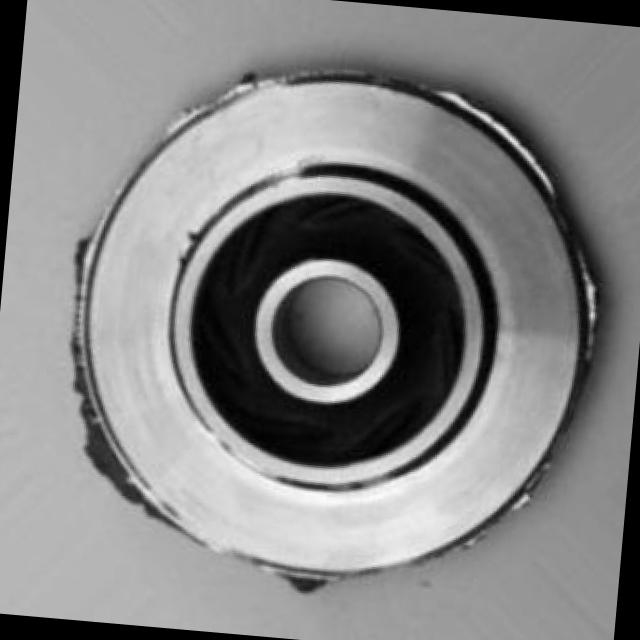Defect: (444, 86, 542, 152)
